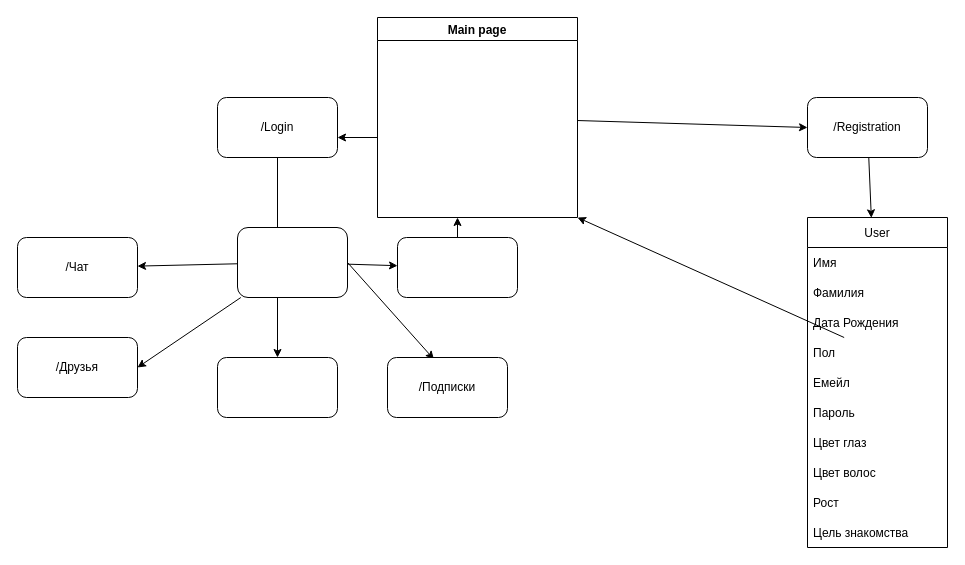
The diagram is 965 pixels wide and 565 high, and some of its shapes have lost their labels. The shapes that lost their labels are listed below. From the top down, each one's centre as x and y in pixels, then its label:
the point at 292,262: /Личный кабинет
the point at 457,267: /Выход
the point at 277,387: /Анкета
